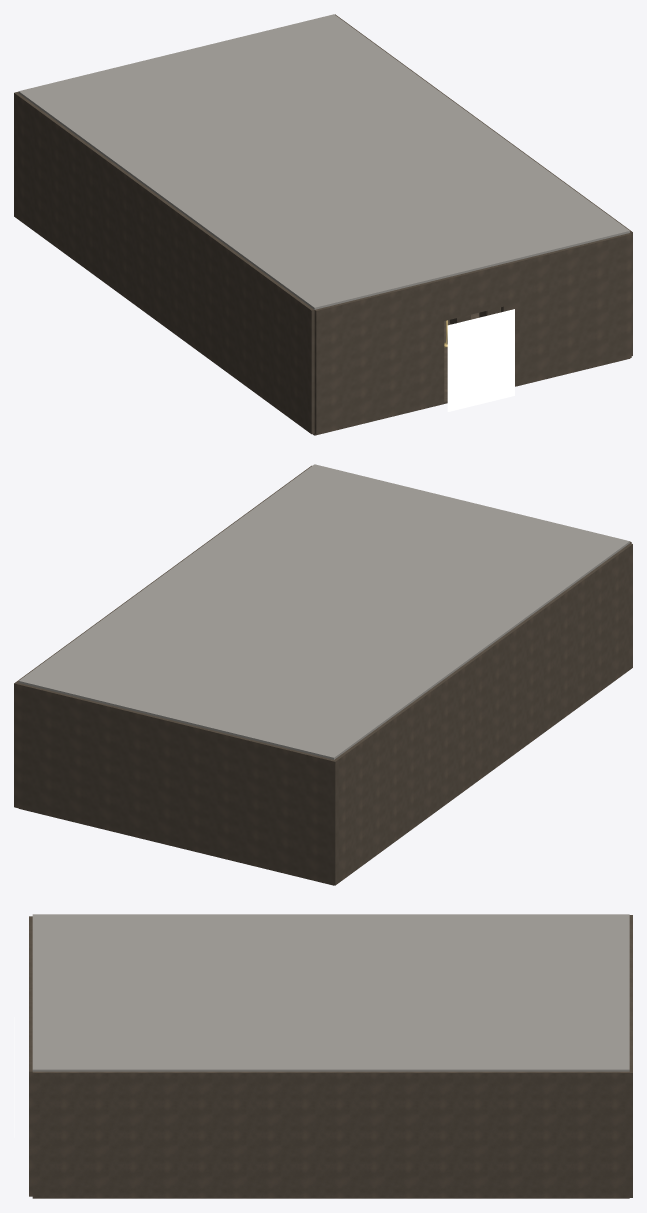
Rendered from room_temple_hall.glb.
The picture shows the model from 3 angles, top to bottom: view 1: azimuth 30°, elevation 25°; view 2: azimuth 150°, elevation 25°; view 3: azimuth 270°, elevation 25°; orthographic projection.
Visible parts, largest first — view 1: Room; view 2: Room; view 3: Room.
Part boxes in pixels (x1,y1,x2,y2): Room: (14,14,632,435); Room: (14,464,632,885); Room: (14,914,632,1198).
Bounding box in the file's own units: 16.3 × 6.2 × 26.96.
Materials: 9 (2 with a texture image).
